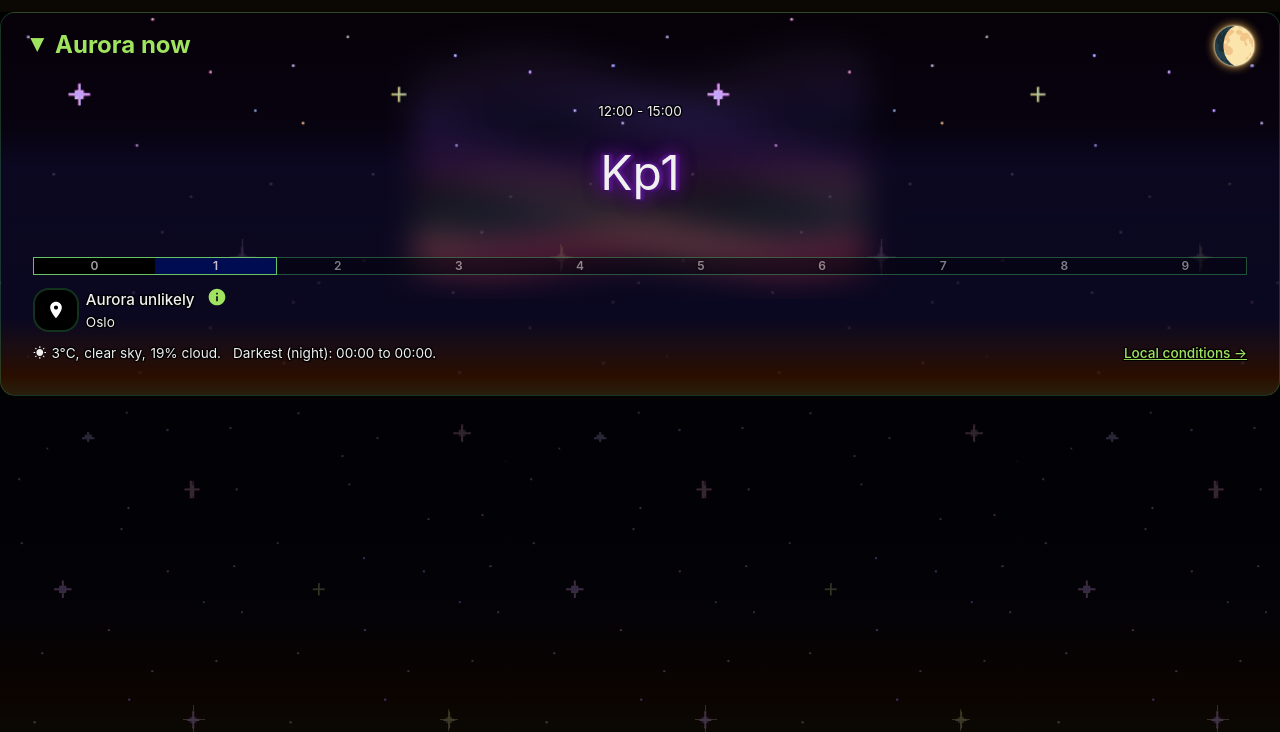
Scenario: AuroraNow › explains the band behind the (i) popover with the band table
Check: the picture with class "kp-bar" is shown, box [32,256,285,271]
Click the button titled "About view distance": (217, 297) [195,287,239,307]
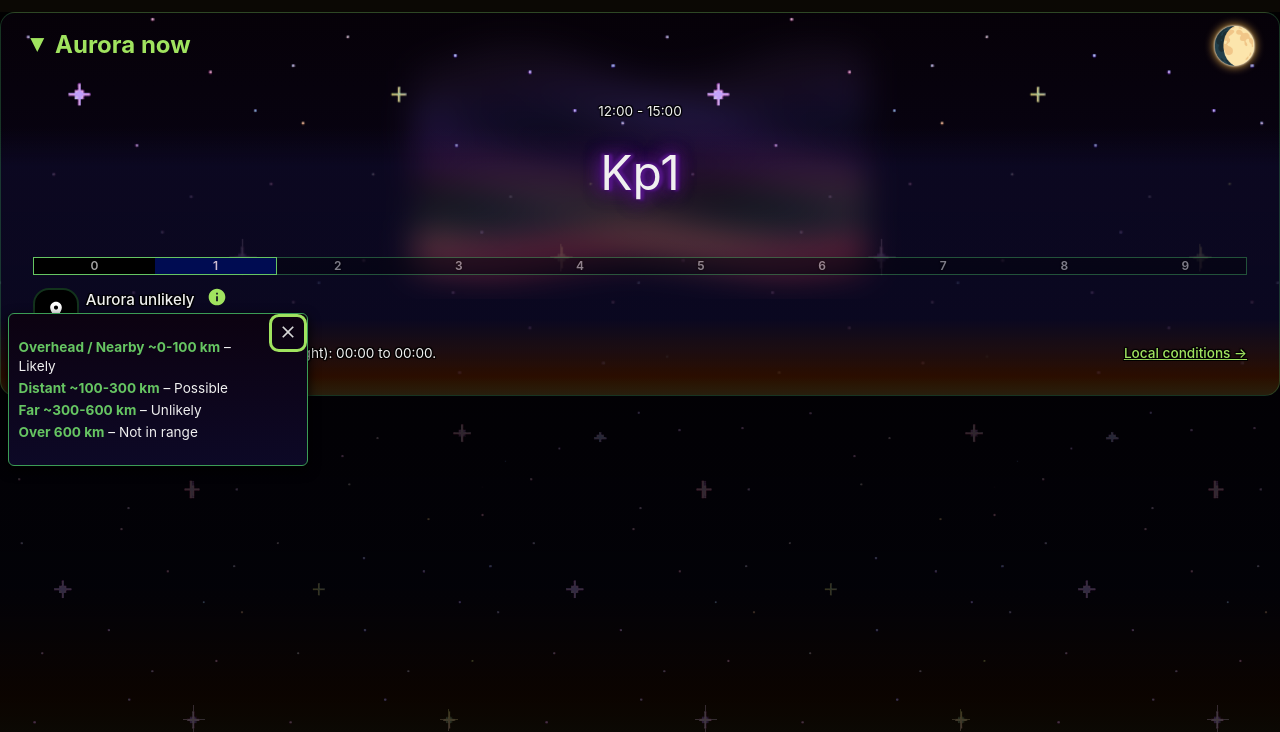
Check: the element that starts with "Overhead / Nearby ~0-100 km" shows "Overhead / Nearby ~0-100 km – Likely", box [8,313,308,466]
Check: the element that starts with "Overhead / Nearby ~0-100 km" shows "Distant ~100-300 km – Possible", box [8,313,308,466]
Check: the element that starts with "Overhead / Nearby ~0-100 km" shows "Far ~300-600 km – Unlikely", box [8,313,308,466]
